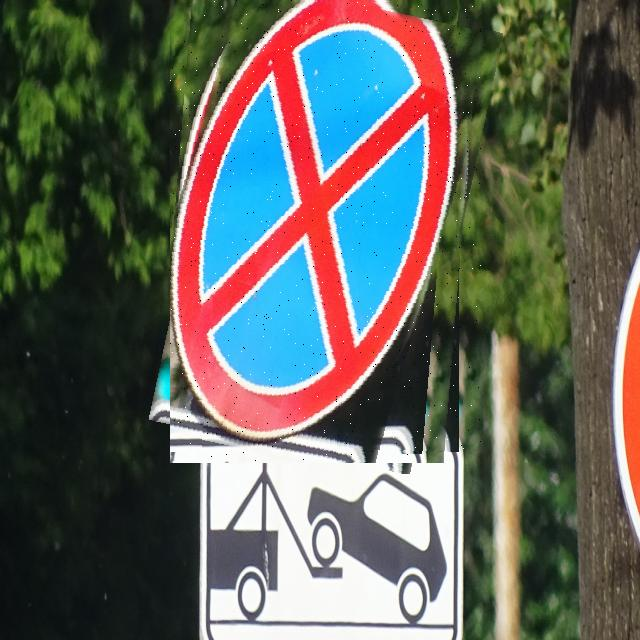no stopping: (170, 0, 481, 463)
